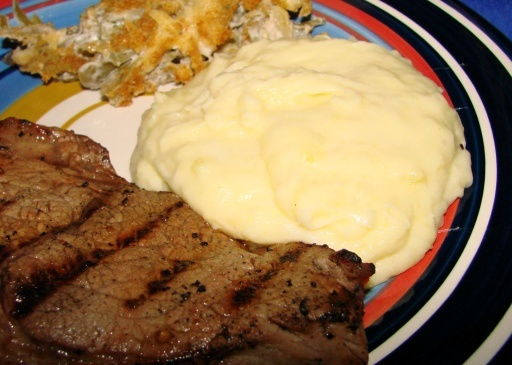background: (0, 0, 379, 208)
